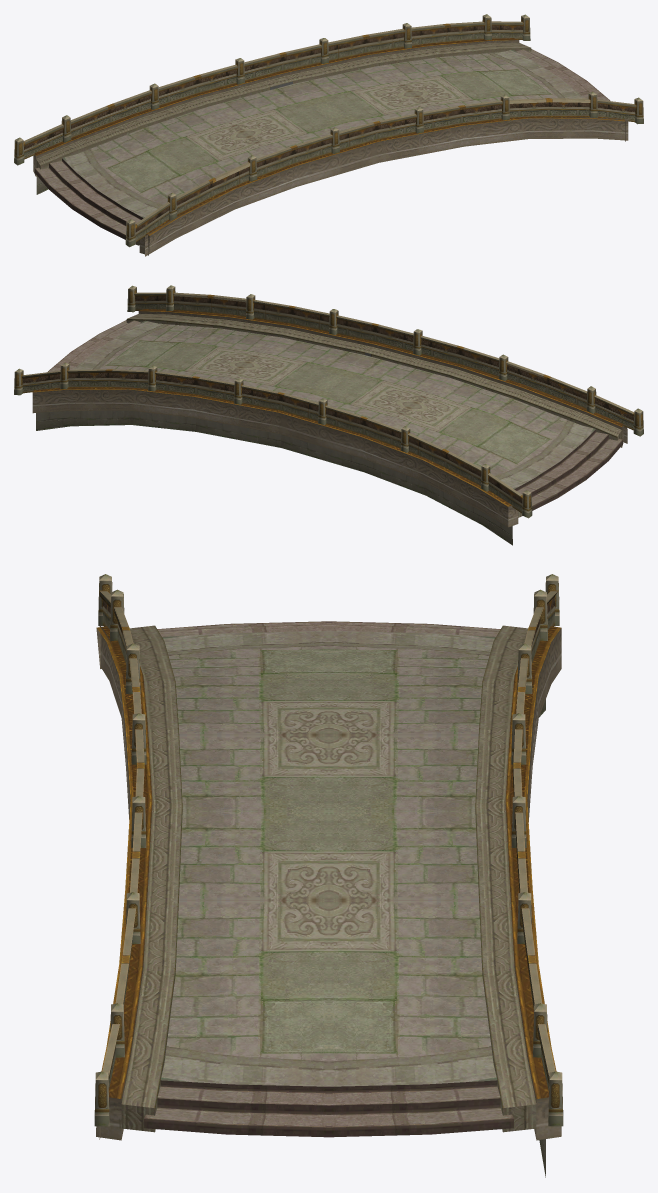
The model's file is SC_ZGFqiao01.FBX.
3 renders of one model, top to bottom at view 1: azimuth 30°, elevation 25°; view 2: azimuth 150°, elevation 25°; view 3: azimuth 270°, elevation 25°, orthographic. The views are drawn at different scales.
Visible parts, largest first — view 1: SC_ZGFqiao01; view 2: SC_ZGFqiao01; view 3: SC_ZGFqiao01.
Part boxes in pixels (box(x1,y1,x2,y2)): SC_ZGFqiao01: box(14, 14, 643, 256); SC_ZGFqiao01: box(14, 285, 643, 545); SC_ZGFqiao01: box(94, 574, 563, 1177).
Size of the model in its own units: 1029 by 183 by 405.
